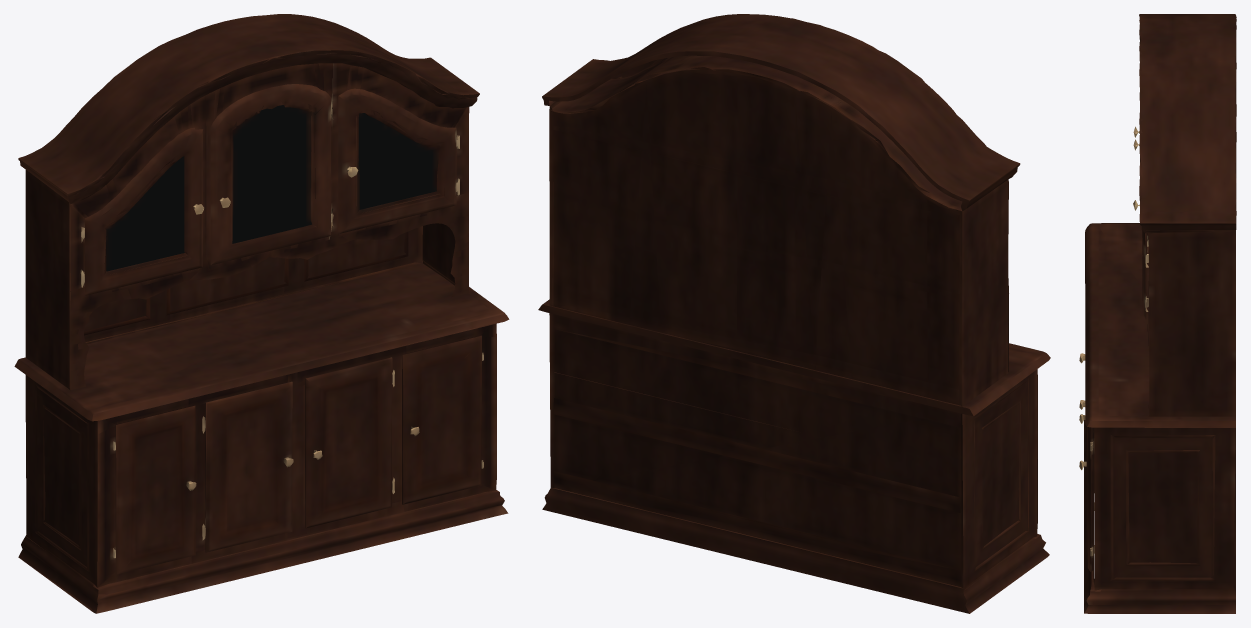
File: cabinet_vintage.glb
3 views of the same model, side by side, from view 1: azimuth 30°, elevation 25°; view 2: azimuth 150°, elevation 25°; view 3: azimuth 270°, elevation 25° (orthographic). The views are drawn at different scales.
Visible parts, largest first — view 1: mesh; view 2: mesh; view 3: mesh.
Part boxes in pixels (x1,y1,x2,y2): mesh: (14,14,509,613); mesh: (538,14,1050,613); mesh: (1079,14,1236,613).
Size of the model in its own units: 2.03 by 2.24 by 0.6702.
1 material, 1 textured.
